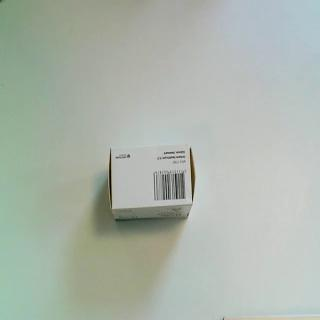morfin10mg: (107, 141, 197, 223)
